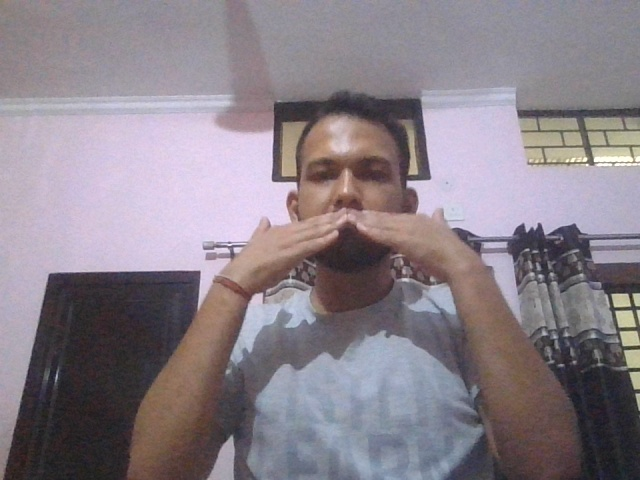thanks: (221, 207, 499, 309)
